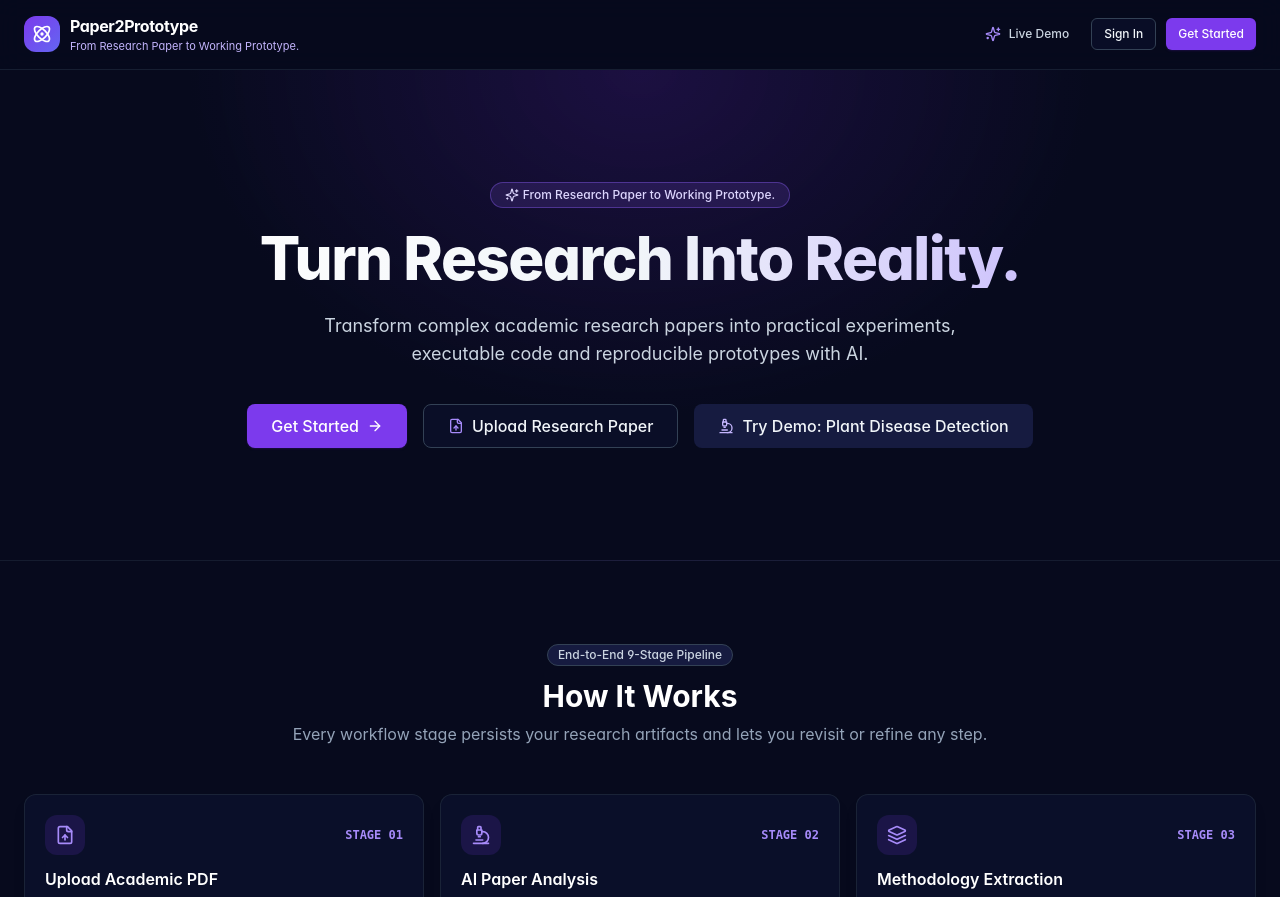
Test: Paper2Prototype End-to-End UI Workflow › syncs RunExperimentPage entrypoint to an existing python file when main.py is absent
The image size is (1280, 897).
Click the button "Try Demo: Plant Disease Detection" at [864, 426], box 694,404 -> 1033,448
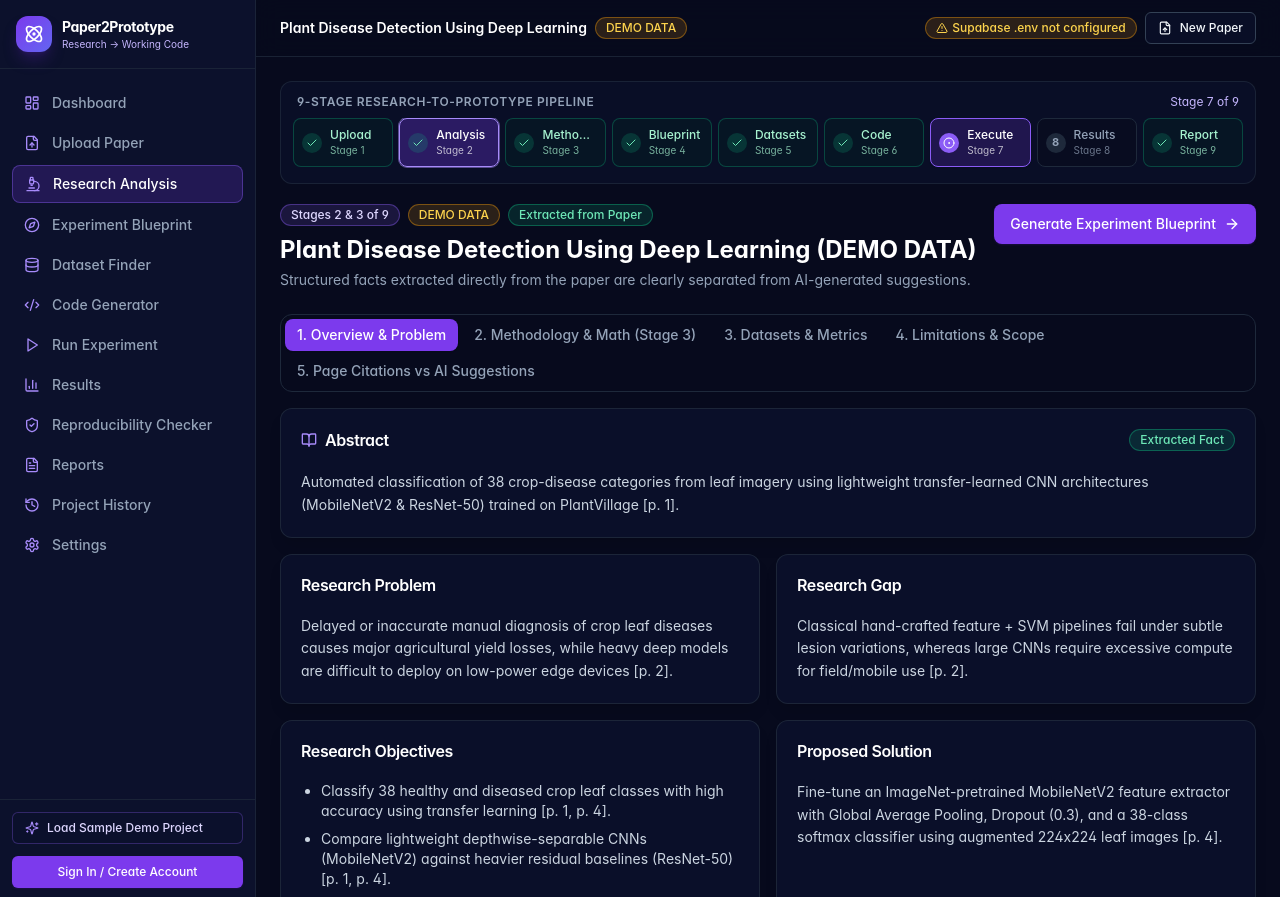
Expected: the heading "Plant Disease Detection Using Deep Learning (DEMO DATA)" is shown, 280,234 -> 977,266
Click the link "Run Experiment" at [91, 344], box 24,336 -> 158,353
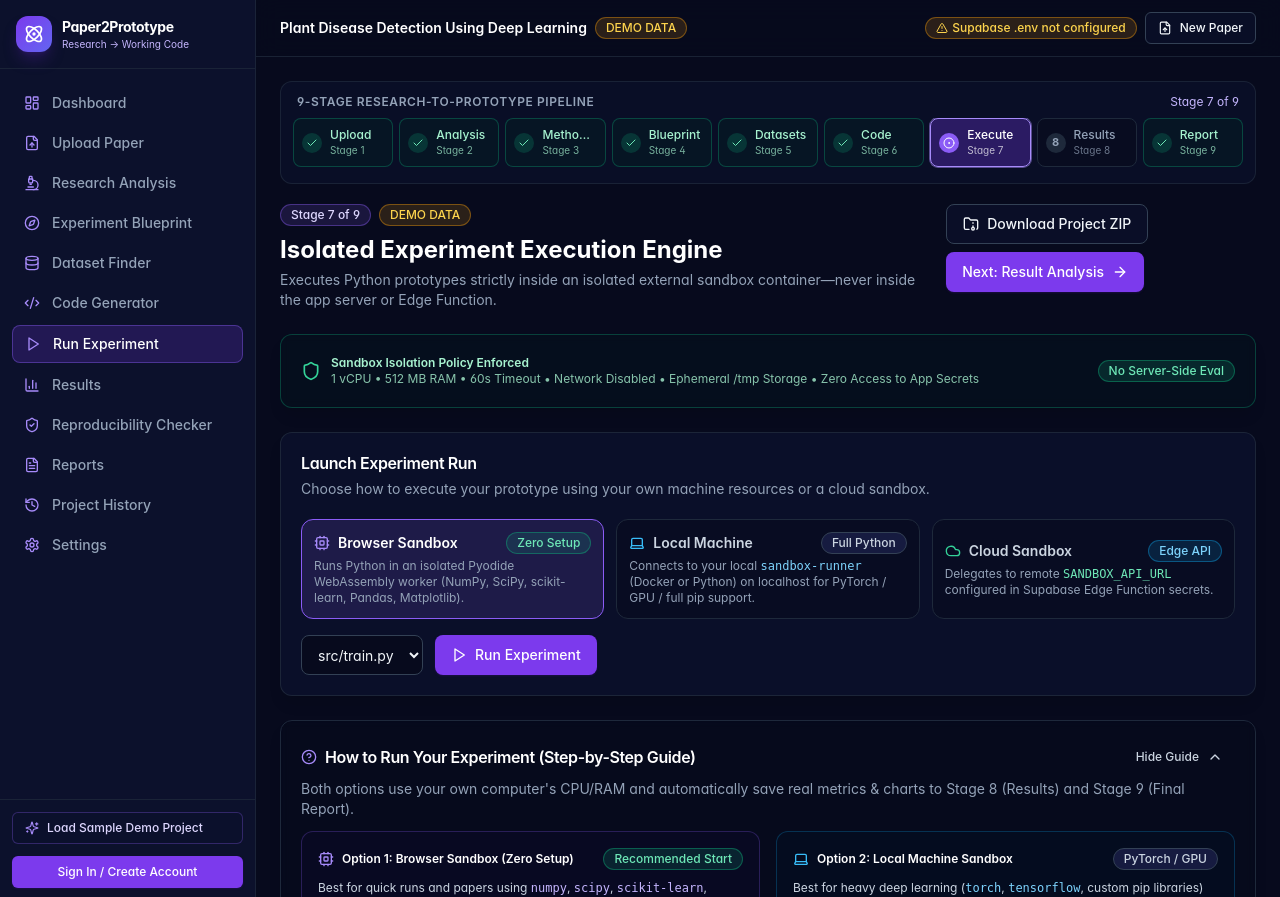
Expected: the dropdown named "Entry Python file" shows "src/train.py", 301,635 -> 423,675
